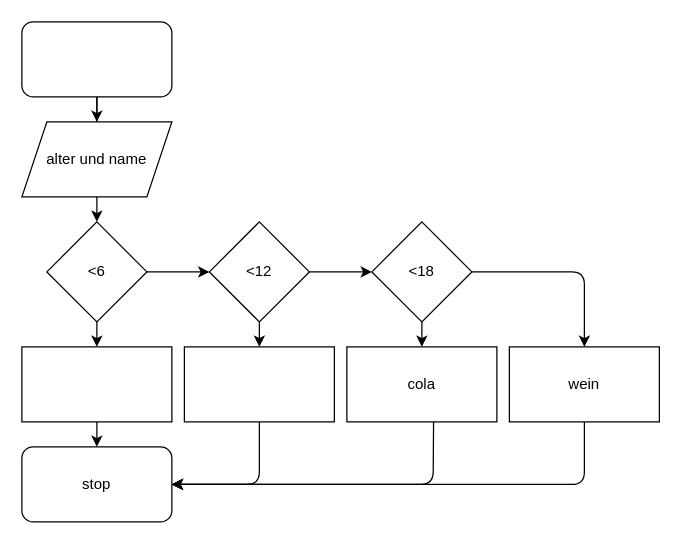
This 681x544 diagram has some shape labels left out. Here are the shapes that lost their labels. From the top down, the box of each, then its label:
(21, 21, 172, 97): start
(21, 346, 172, 422): milch
(183, 346, 334, 422): saft
